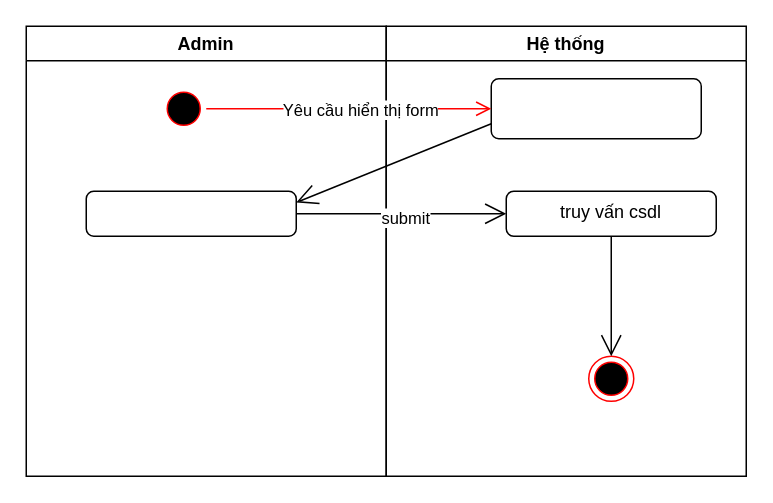
Image size: 773x503. Some labels were removed from this diagram. Each missing label, with the centre of its shape:
"Hiển thị form tìm kiếm" goes at [595,108].
"Nhập tên điều khoản" goes at [190,213].
